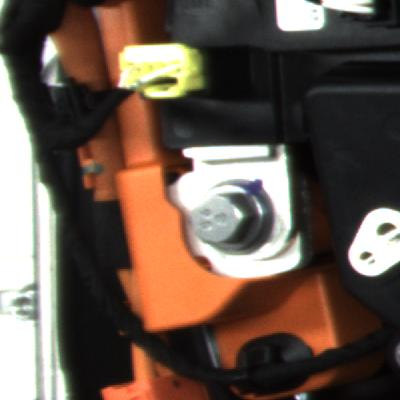nut_b: (172, 163, 287, 266)
